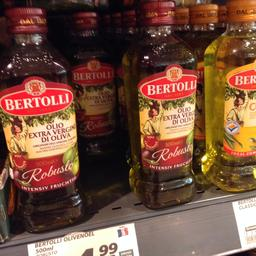oil: (1, 6, 86, 234), (121, 1, 199, 208), (198, 0, 255, 192), (66, 6, 116, 156)
